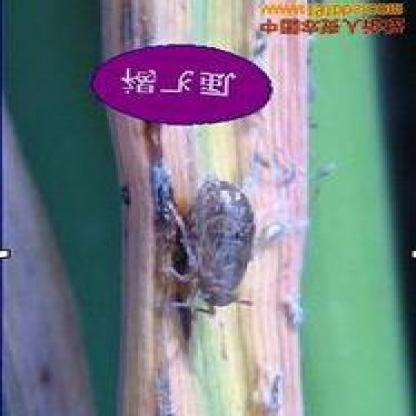brown-planthopper: (169, 178, 264, 310)
